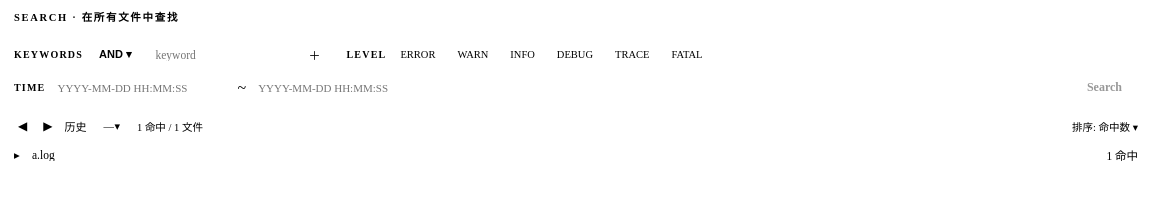
SearchPanel results › highlights the keyword in a match row's content with mark.hit (Issue 1)
The width and height of the screenshot is (1152, 201).
In the field named "keyword input": (220,54) [148,46,294,64], type "refused"
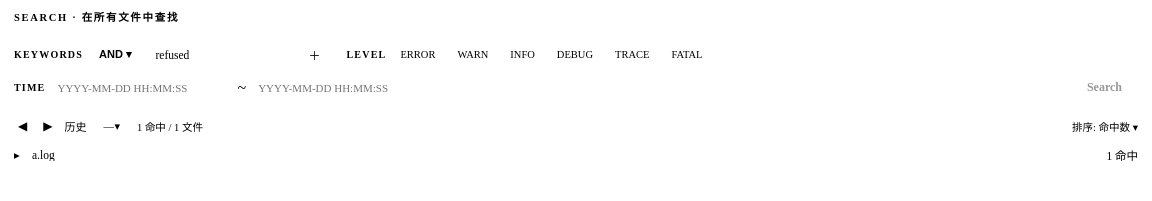
Click the button named "add keyword": (314,54) [300,43,330,66]
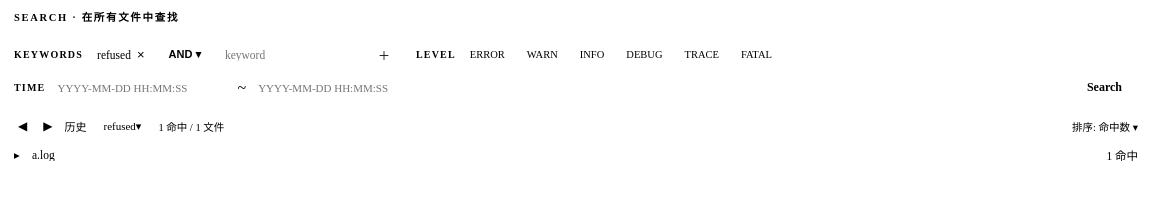
Click the button "▸ a.log 1 命中": (17,155) [14,149,1138,162]
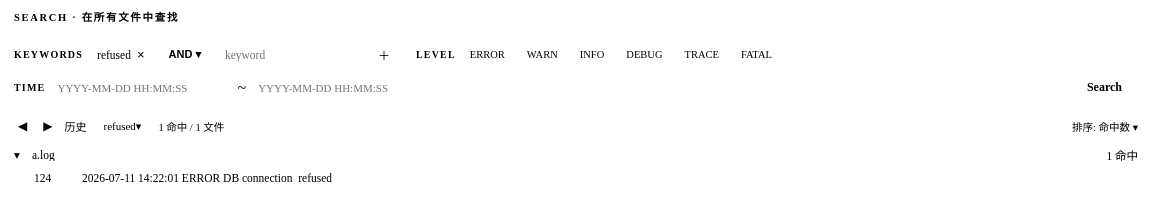
Now the text with class "hit" next to "2026-07-11 14:22:01 ERROR DB connection" is shown, box [295,172,335,184]
Now the text with class "hit" next to "2026-07-11 14:22:01 ERROR DB connection" reads "refused", box [298,172,332,184]
